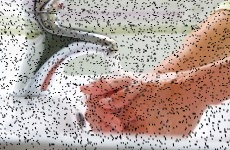washing hand: (45, 5, 218, 137)
